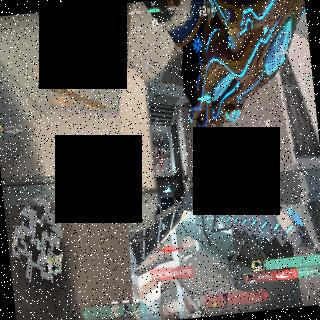ENEMY-HEAD: (158, 159, 162, 164)
